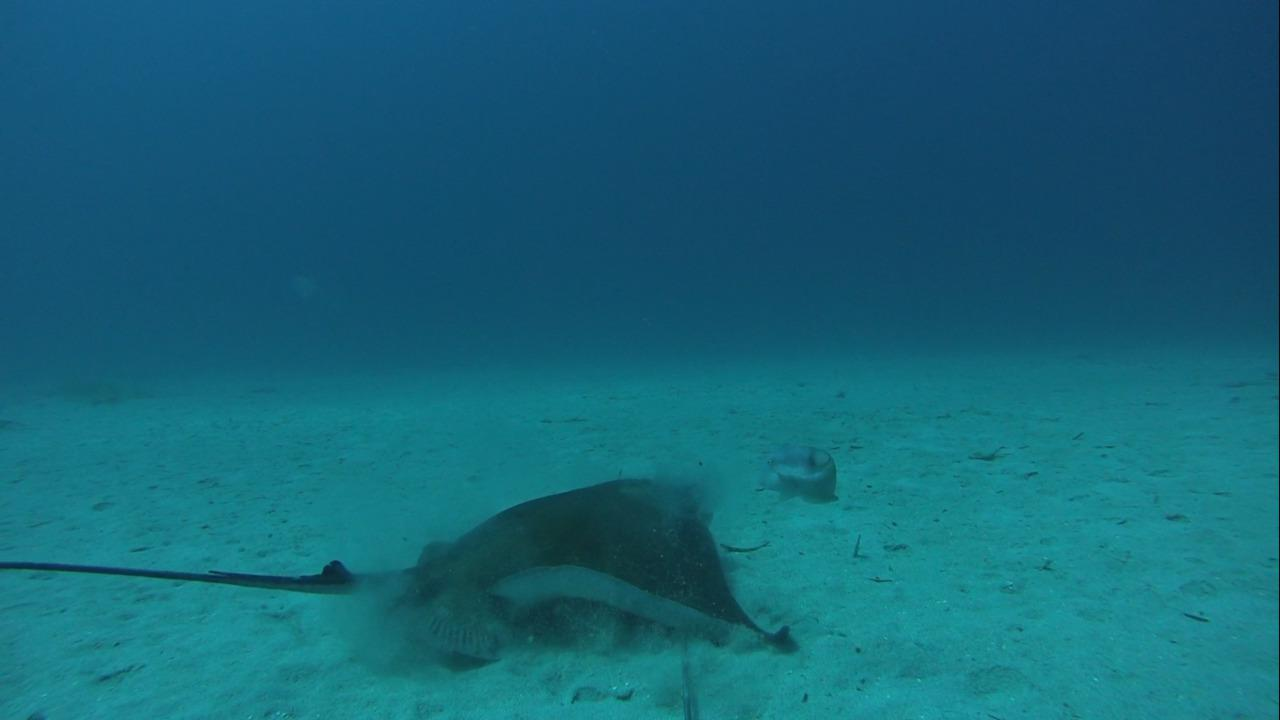myliobatis: (4, 473, 797, 677)
raor: (758, 438, 838, 509)
